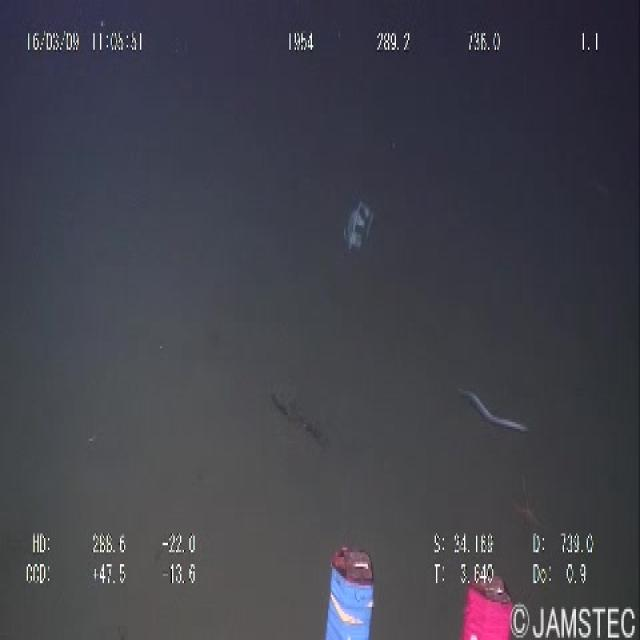plastic: (336, 192, 379, 265)
